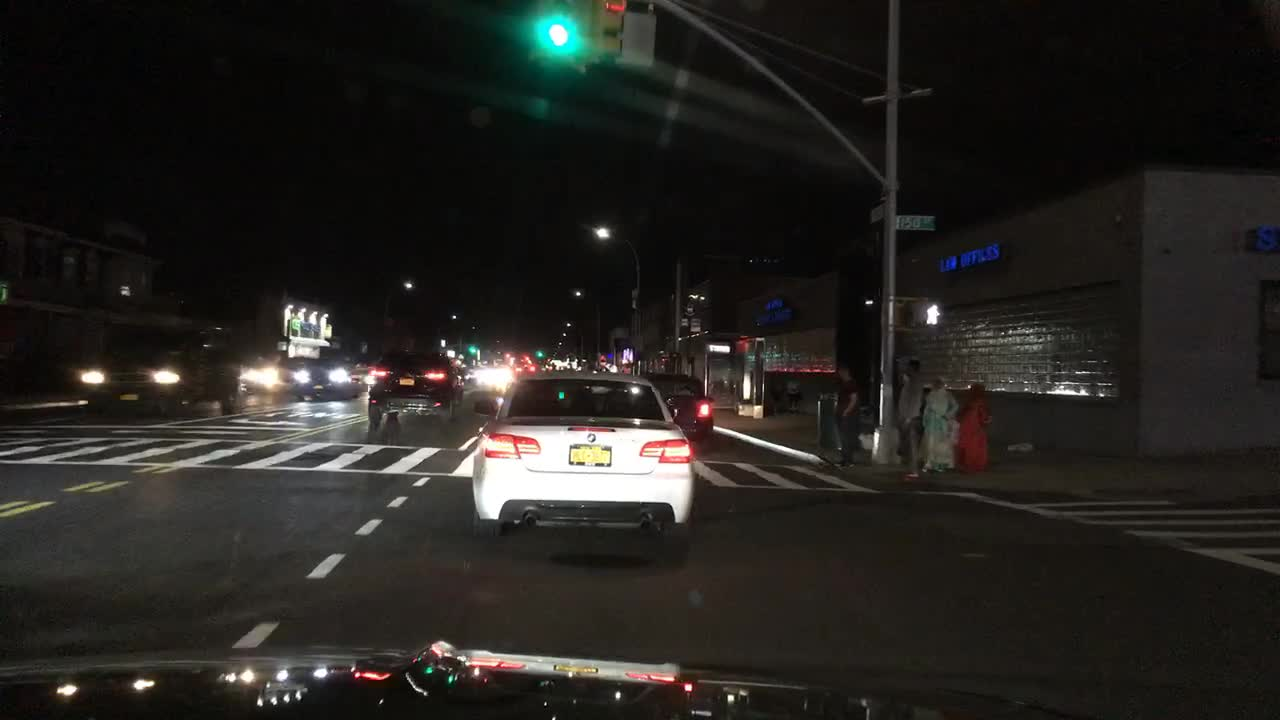car: (469, 368, 694, 536), (77, 324, 243, 417), (367, 347, 459, 423), (642, 371, 715, 439), (290, 358, 360, 401), (455, 362, 468, 396), (347, 364, 369, 383), (511, 360, 536, 376)
person: (894, 358, 928, 481), (955, 381, 998, 474), (917, 374, 957, 471), (829, 363, 865, 465)
traffic light: (541, 1, 593, 55), (595, 0, 627, 60), (916, 298, 943, 324), (468, 340, 482, 356), (534, 346, 548, 360), (520, 349, 532, 364)
traffic sign: (893, 214, 939, 231), (867, 197, 889, 224)
